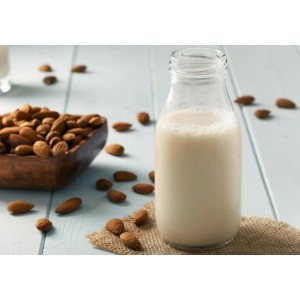milk_brain food: (151, 130, 243, 225)
